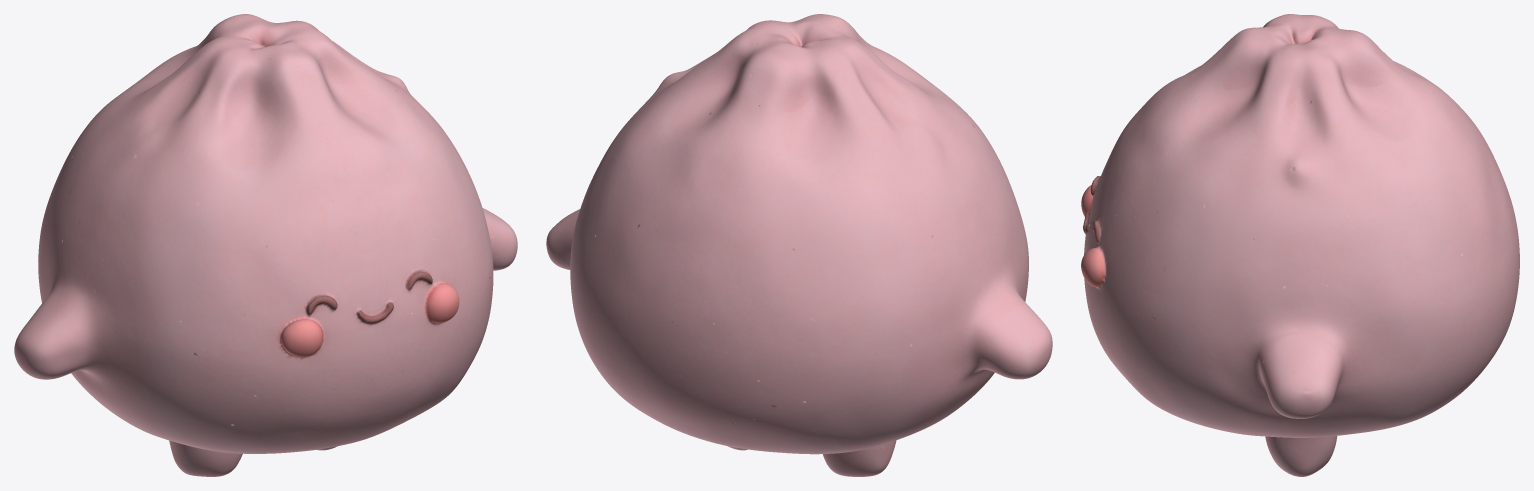
Rendered from mallang.glb.
3 renders of one model, left to right at view 1: azimuth 30°, elevation 25°; view 2: azimuth 150°, elevation 25°; view 3: azimuth 270°, elevation 25°, orthographic. The views are drawn at different scales.
Bounding box in the file's own units: 2 × 1.65 × 1.59.
Materials: 1 (1 with a texture image).
